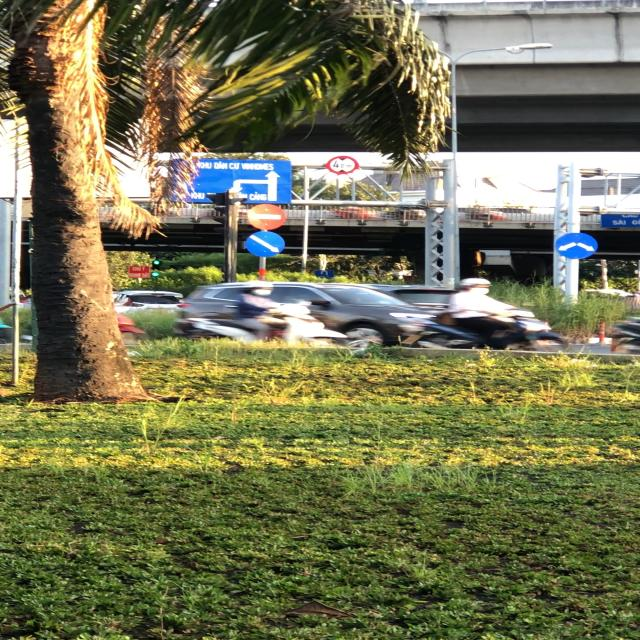Bien bao cam di nguoc chieu: (244, 204, 290, 231)
Bien bao han che chieu cao: (322, 154, 360, 175)
Bien bao huong phai di vong chuong ngai vat: (240, 230, 290, 260), (552, 231, 602, 260)
